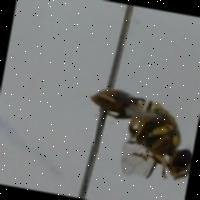Oriental-fruit-fly: (64, 68, 200, 200)
